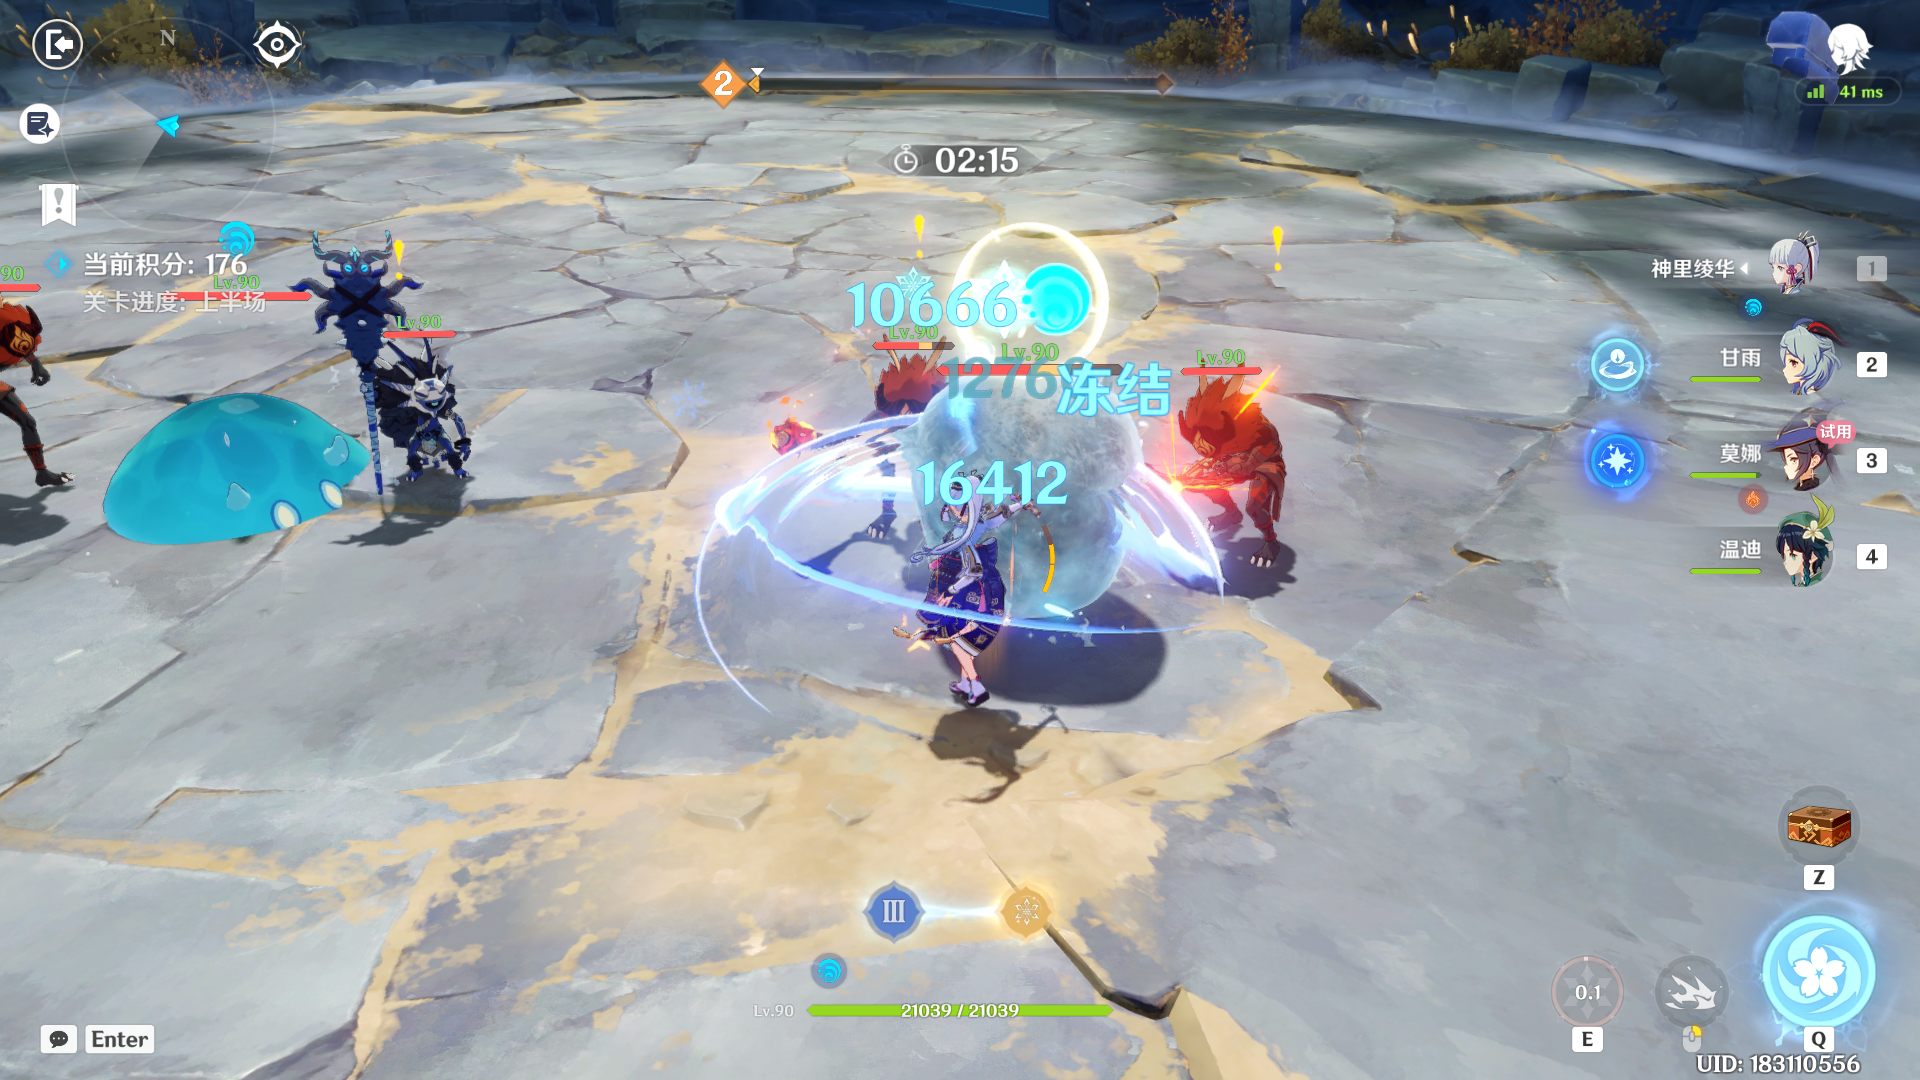character: (870, 431, 1102, 737)
hili: (320, 229, 527, 525), (1145, 313, 1325, 600), (767, 316, 965, 556)
slime: (83, 367, 415, 617)
